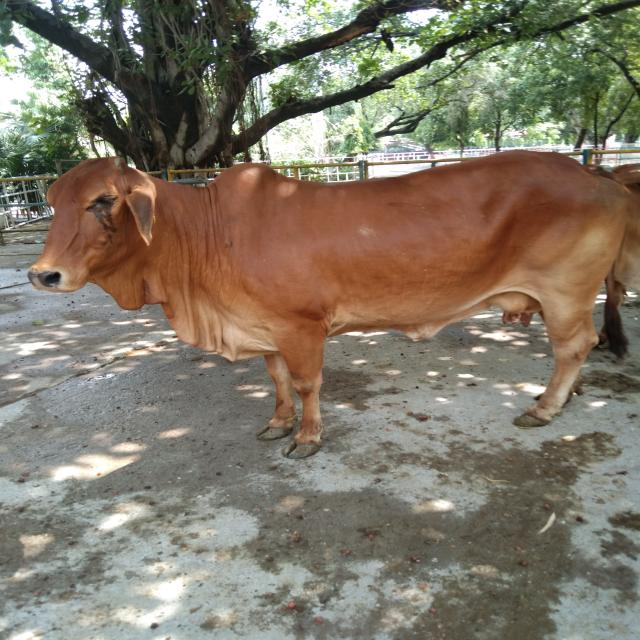1: (201, 165, 302, 188)
Hoof: (283, 437, 323, 459), (255, 424, 293, 441), (512, 412, 549, 429)
